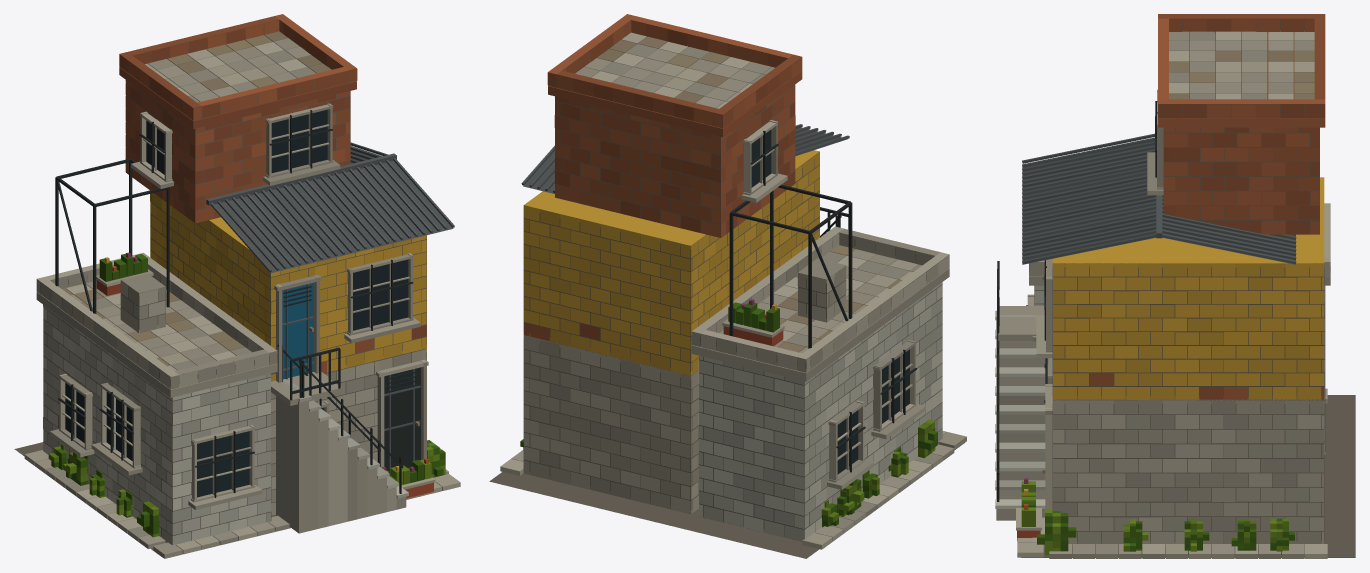
The model's file is SM_Mapa_063.fbx.
3 views of the same model, side by side, from view 1: azimuth 30°, elevation 25°; view 2: azimuth 150°, elevation 25°; view 3: azimuth 270°, elevation 25° (orthographic). The views are drawn at different scales.
Visible parts, largest first — view 1: SM_Mapa_063; view 2: SM_Mapa_063; view 3: SM_Mapa_063.
Part boxes in pixels (x1,y1,x2,y2): SM_Mapa_063: [14, 14, 460, 558]; SM_Mapa_063: [489, 14, 966, 558]; SM_Mapa_063: [995, 14, 1355, 558].
Bounding box in the file's own units: 8 × 7.38 × 9.73.
